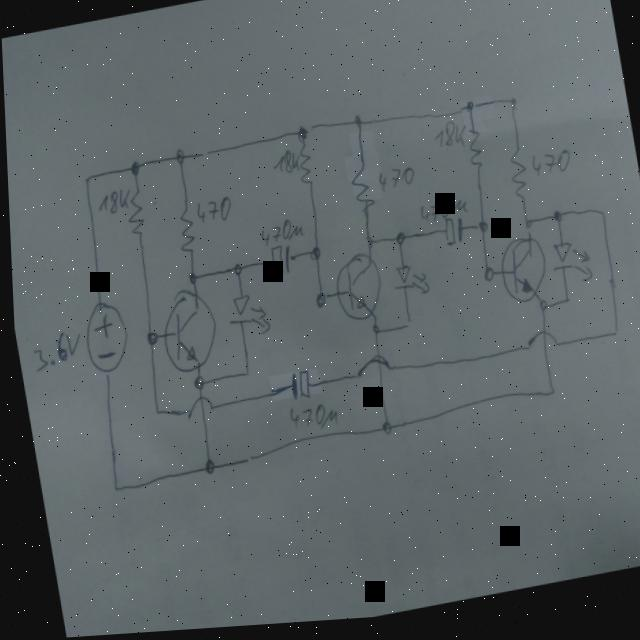capacitor: (437, 219, 463, 253), (265, 246, 290, 279), (283, 372, 307, 404)
crossover: (346, 353, 392, 386), (519, 333, 557, 359), (177, 395, 213, 422)
diode: (219, 293, 268, 344), (543, 243, 590, 295), (386, 265, 427, 305)
junction: (196, 458, 211, 478), (374, 423, 390, 441), (309, 293, 323, 313), (187, 375, 202, 392), (170, 149, 184, 166), (125, 159, 138, 177), (478, 270, 491, 288), (140, 331, 155, 346), (305, 248, 318, 265), (390, 234, 403, 251), (293, 128, 307, 143), (472, 225, 486, 240), (540, 391, 554, 406), (228, 263, 241, 279), (349, 117, 362, 132), (548, 215, 561, 230), (533, 304, 545, 319), (365, 325, 376, 341), (145, 406, 157, 420), (606, 332, 617, 347), (556, 300, 568, 313), (183, 272, 194, 286), (360, 238, 371, 251), (104, 480, 115, 493), (399, 322, 409, 336), (236, 370, 246, 383), (520, 223, 530, 236), (463, 105, 472, 118), (505, 102, 514, 115), (79, 174, 88, 185), (594, 213, 602, 224)
resistor: (502, 149, 529, 210), (344, 166, 373, 217), (119, 187, 145, 243), (169, 206, 196, 259), (291, 144, 312, 192), (461, 130, 482, 177)
source: (74, 296, 130, 378)
text: (23, 325, 82, 375), (282, 401, 336, 438), (414, 195, 467, 231), (254, 218, 302, 249), (526, 154, 570, 185), (429, 122, 466, 158), (372, 167, 414, 198), (191, 196, 231, 228), (91, 186, 128, 218), (267, 150, 299, 178)
transistor: (150, 283, 219, 378), (324, 251, 382, 329), (490, 237, 548, 313)
